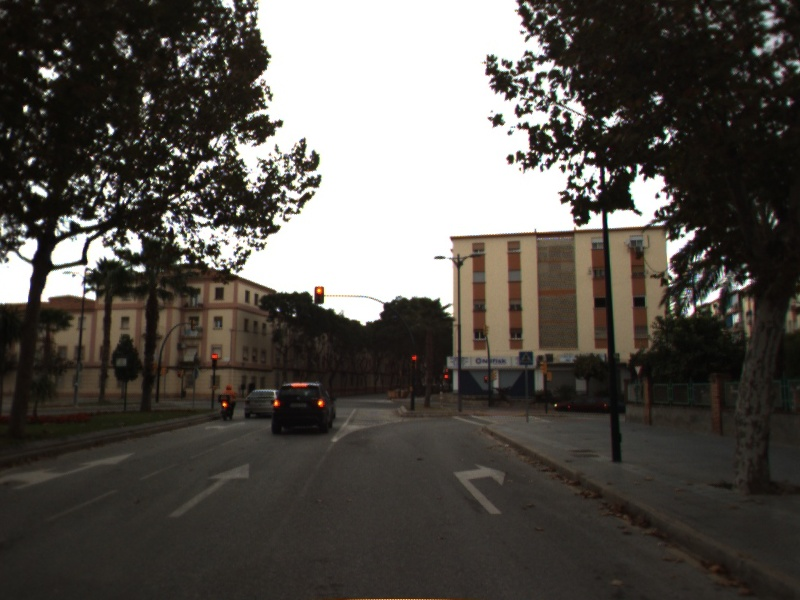RIGHT: (449, 458, 509, 518)
STRAIGHT: (164, 458, 253, 521)
STRAIGHT_LEFT: (1, 447, 143, 493)
